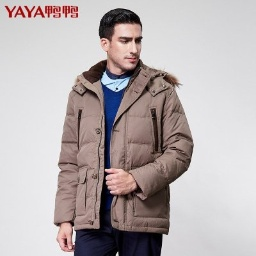face: (98, 8, 143, 72)
